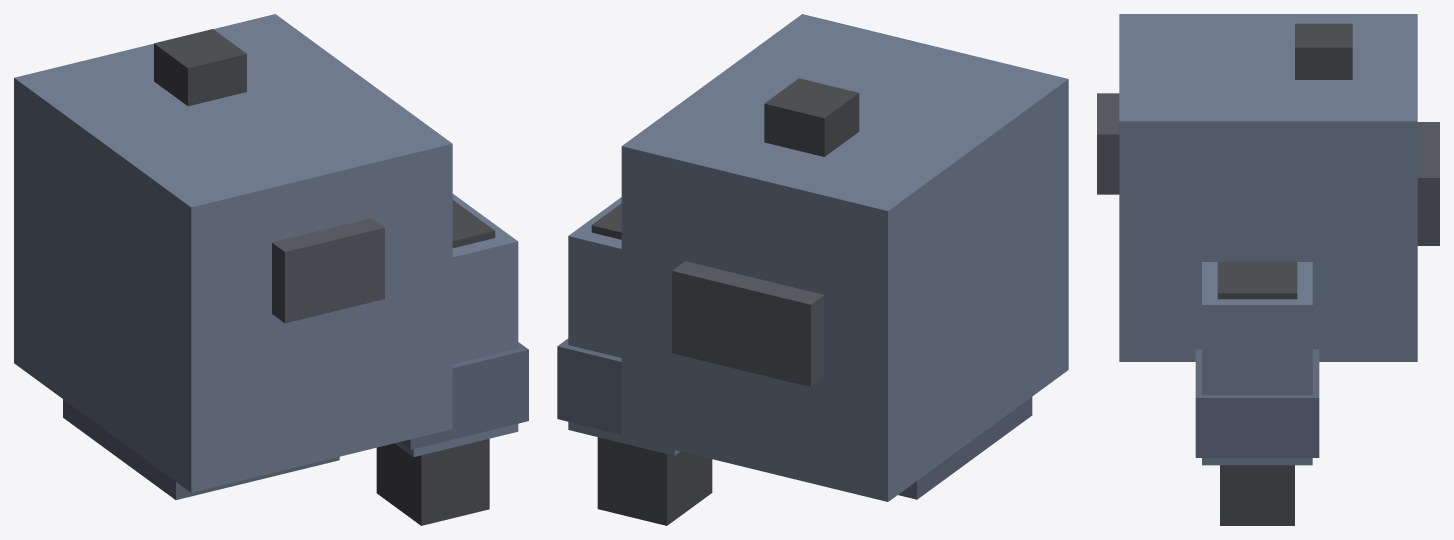
Rendered from tankmech_arm_left.glb.
3 views of the same model, side by side, from view 1: azimuth 30°, elevation 25°; view 2: azimuth 150°, elevation 25°; view 3: azimuth 270°, elevation 25° (orthographic). The views are drawn at different scales.
Visible parts, largest first — view 1: armL_pauldron, armL_pauldron_vent_rear, armL_forearm, armL_forearm_fist, armL_forearm_plate, armL_pauldron_thruster, armL_pauldron_skirt, armL_upper; view 2: armL_pauldron, armL_pauldron_vent_front, armL_forearm_fist, armL_forearm, armL_pauldron_thruster, armL_forearm_plate, armL_pauldron_skirt, armL_upper; view 3: armL_pauldron, armL_forearm, armL_forearm_plate, armL_forearm_fist, armL_pauldron_thruster, armL_upper, armL_pauldron_vent_front, armL_pauldron_vent_rear.
Boxes of the visible parts, x1,y1,x2,y2 form: armL_pauldron: [14, 14, 452, 492]; armL_pauldron_vent_rear: [272, 218, 384, 323]; armL_forearm: [395, 194, 518, 456]; armL_forearm_fist: [376, 438, 489, 525]; armL_forearm_plate: [400, 342, 528, 449]; armL_pauldron_thruster: [154, 29, 246, 106]; armL_pauldron_skirt: [63, 399, 339, 499]; armL_upper: [452, 200, 495, 248]; armL_pauldron: [621, 14, 1068, 501]; armL_pauldron_vent_front: [672, 261, 824, 386]; armL_forearm_fist: [597, 437, 712, 525]; armL_forearm: [568, 197, 680, 455]; armL_pauldron_thruster: [764, 78, 859, 156]; armL_forearm_plate: [557, 338, 621, 434]; armL_pauldron_skirt: [898, 397, 1032, 499]; armL_upper: [591, 203, 621, 239]; armL_pauldron: [1119, 14, 1417, 361]; armL_forearm: [1202, 262, 1312, 465]; armL_forearm_plate: [1195, 349, 1319, 457]; armL_forearm_fist: [1220, 465, 1294, 525]; armL_pauldron_thruster: [1295, 23, 1352, 79]; armL_upper: [1217, 261, 1297, 299]; armL_pauldron_vent_front: [1417, 122, 1439, 245]; armL_pauldron_vent_rear: [1097, 93, 1119, 194].
Bounding box in the file's own units: 1.68 × 1.98 × 1.55.
